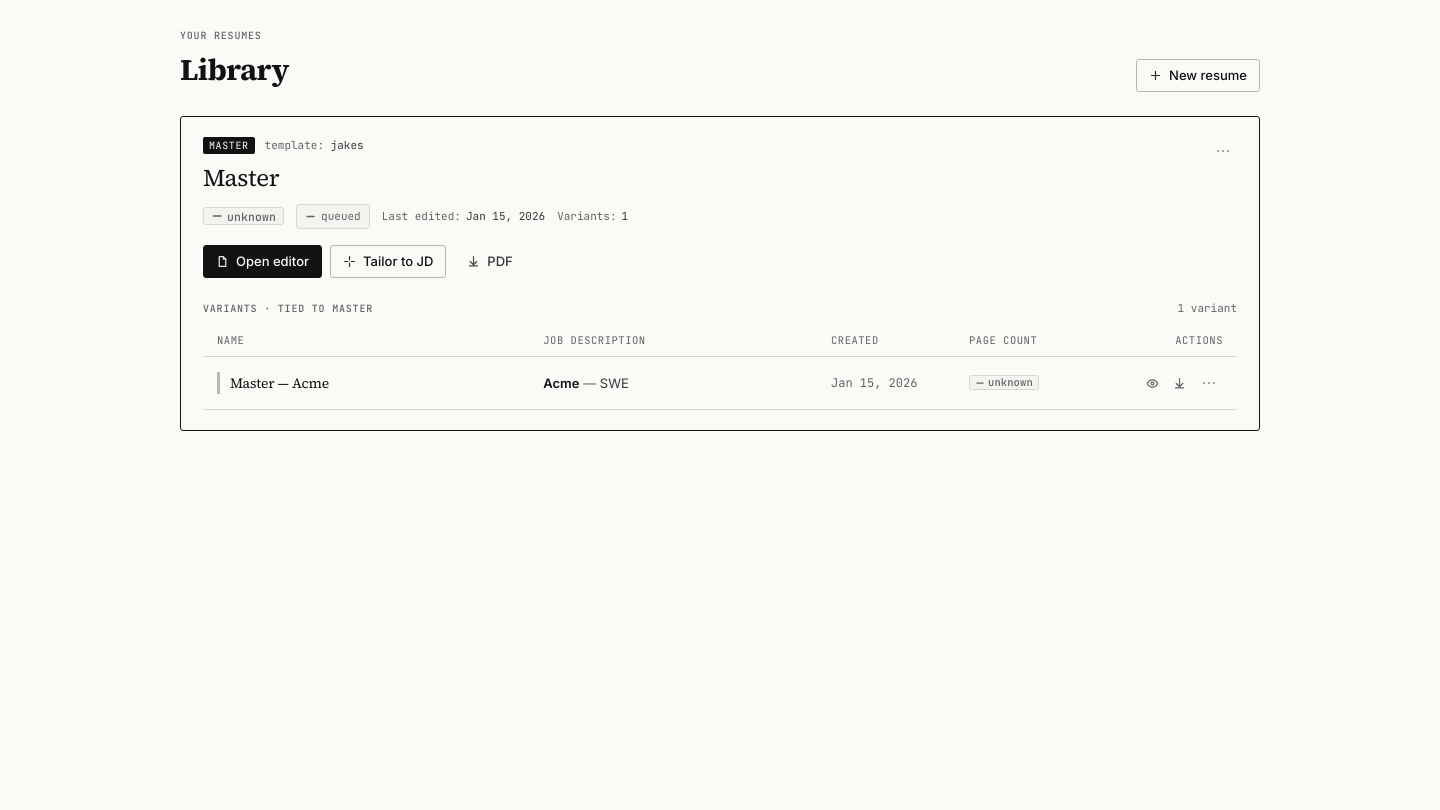
Test: view JD on variant fetches and renders
The image size is (1440, 810).
Expected: the element with test id "master-card" is shown, [180,116,1260,431]
// Variant kebab is the second one
Click the button named "more actions" in the row of "SWE" at (1209, 383), box [1195,369,1223,397]
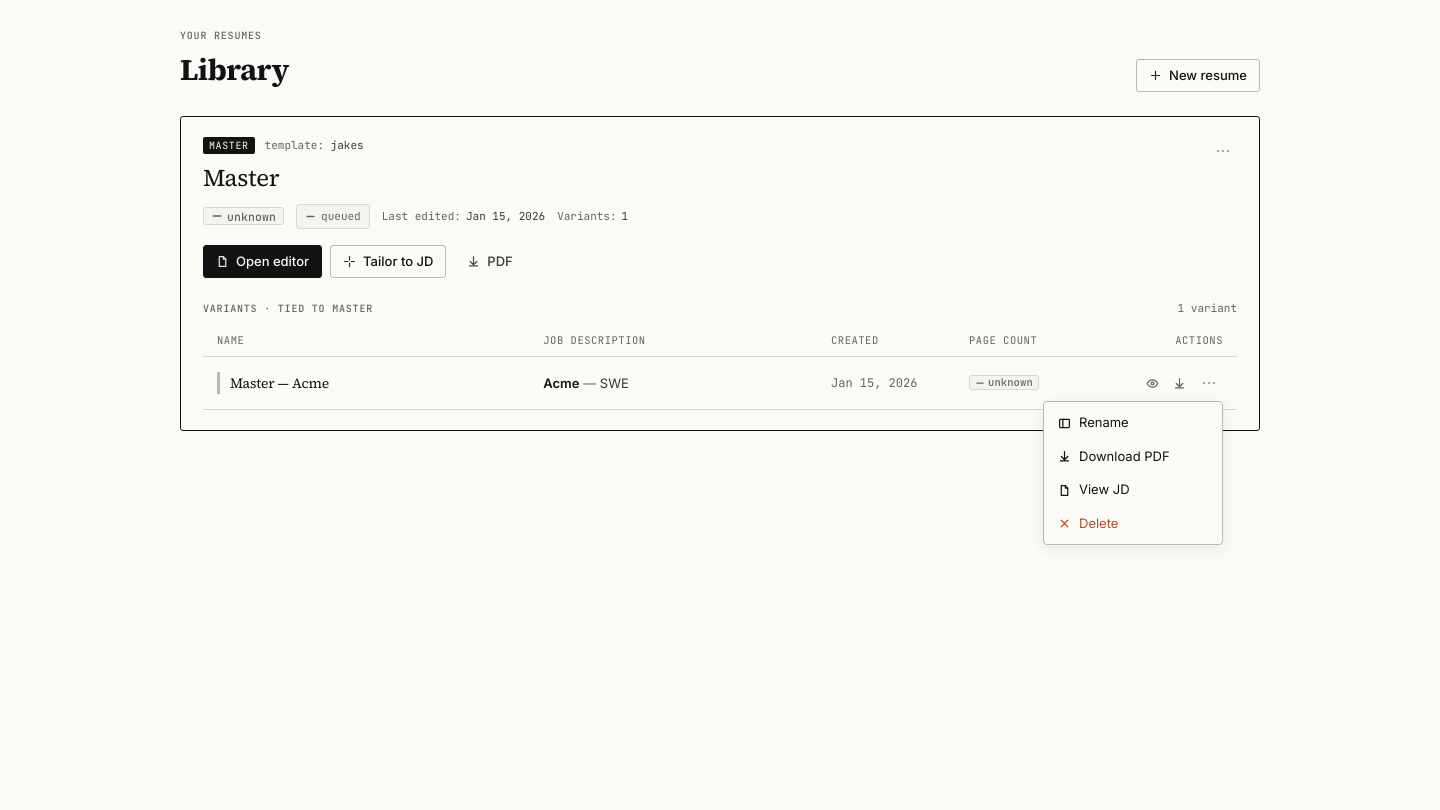
Click the menu item "View JD" at (1133, 490), box [1048,473,1218,507]
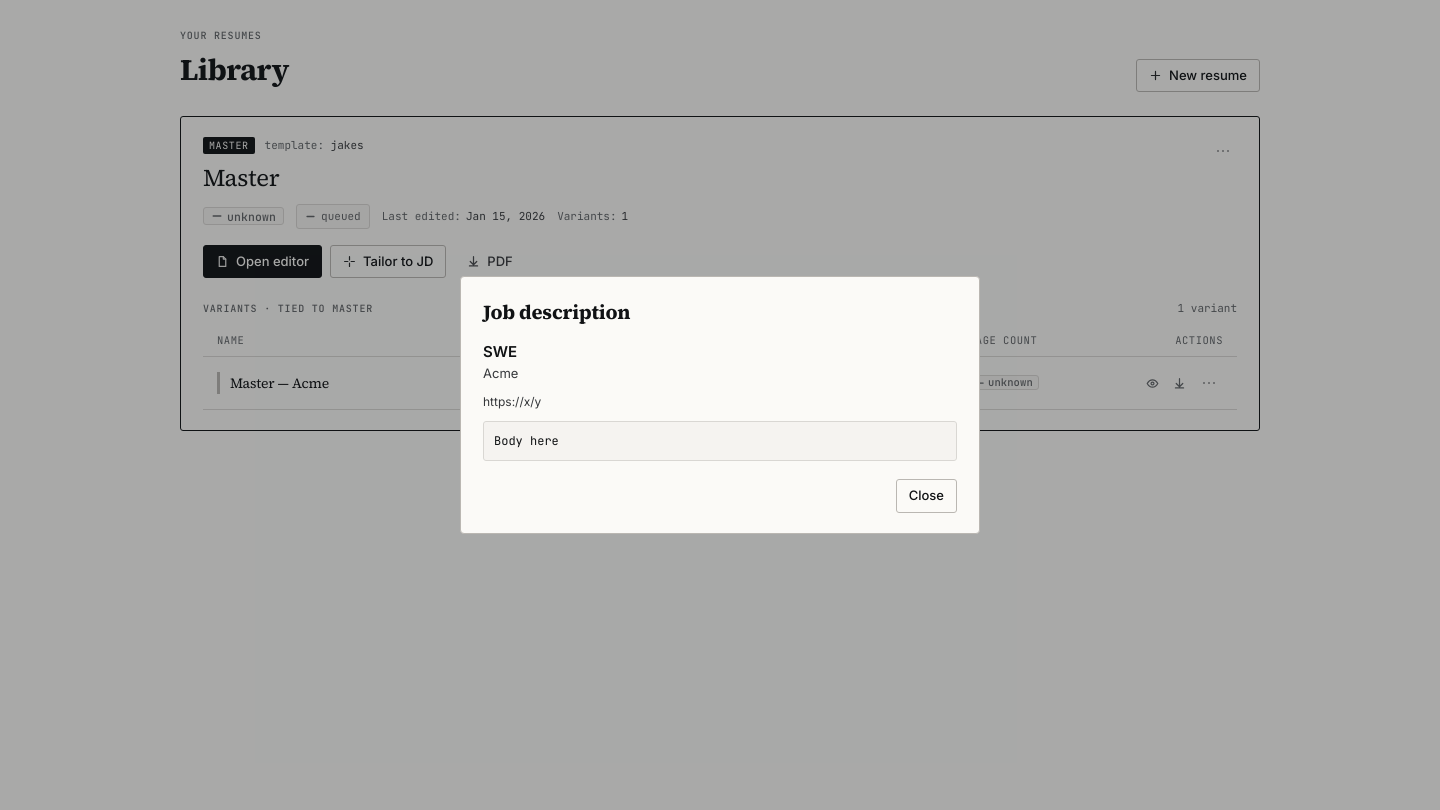
Expected: the text "Body here" is shown, [483,421,957,461]
